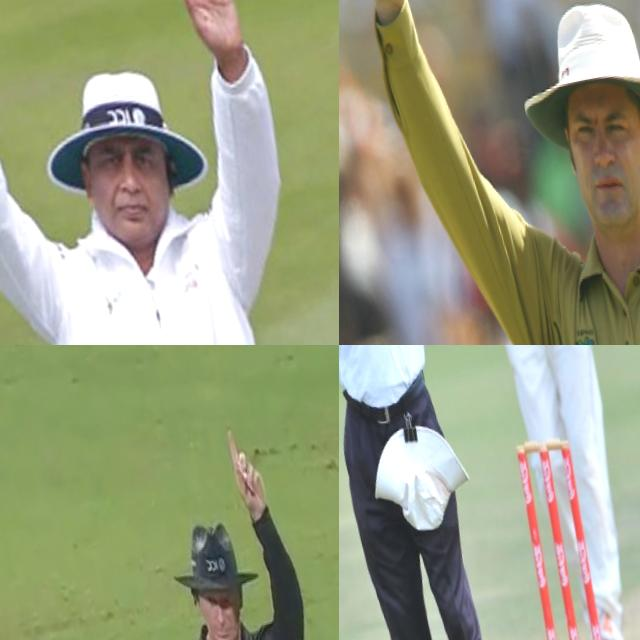Out: (99, 409, 339, 640)
Six: (0, 0, 339, 345), (339, 0, 640, 345)
Wide: (339, 345, 592, 536)
